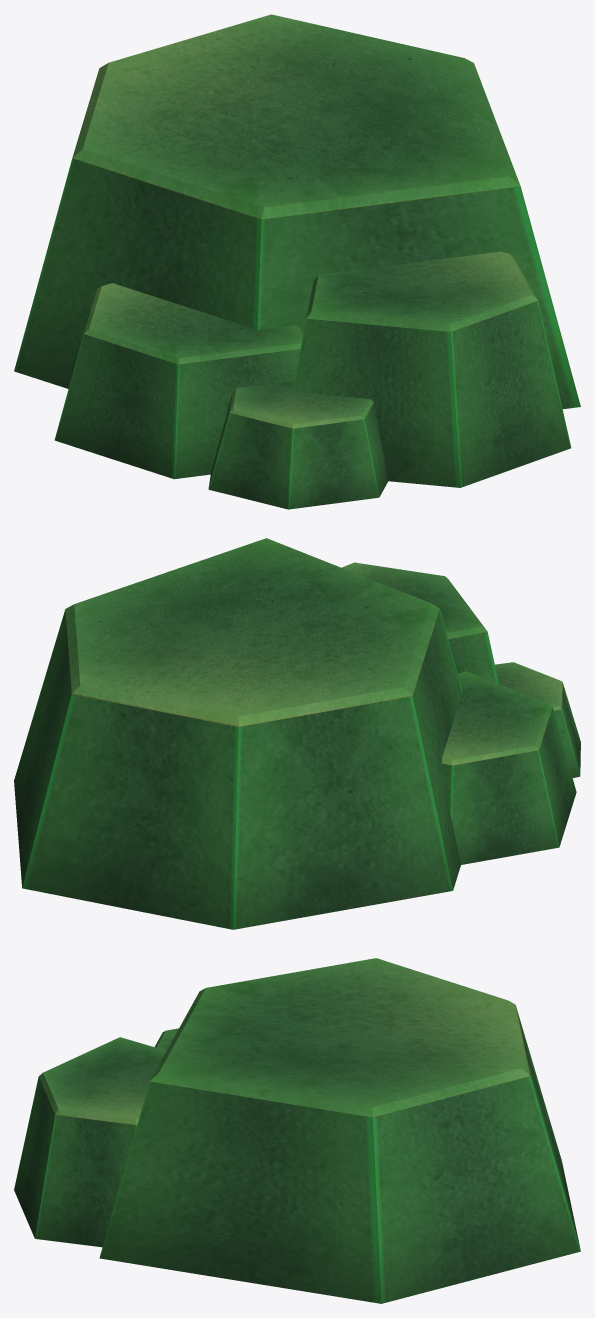
File: static.glb
3 views of the same model, one above another, from view 1: azimuth 30°, elevation 25°; view 2: azimuth 150°, elevation 25°; view 3: azimuth 270°, elevation 25° (orthographic). The views are drawn at different scales.
Parts seen in each view (by area): view 1: Cylinder, Cylinder_3, Cylinder_4, Cylinder_2; view 2: Cylinder, Cylinder_4, Cylinder_3, Cylinder_2; view 3: Cylinder, Cylinder_3.
Boxes of the visible parts, x1,y1,x2,y2 form: Cylinder: [14, 14, 580, 409]; Cylinder_3: [292, 251, 571, 487]; Cylinder_4: [54, 283, 302, 479]; Cylinder_2: [208, 381, 388, 509]; Cylinder: [14, 538, 462, 929]; Cylinder_4: [442, 671, 576, 864]; Cylinder_3: [342, 562, 498, 683]; Cylinder_2: [495, 662, 580, 777]; Cylinder: [99, 958, 580, 1303]; Cylinder_3: [14, 1037, 166, 1247].
Bounding box in the file's own units: 0.8285 × 0.3087 × 0.9246.
2 materials, 2 textured.
